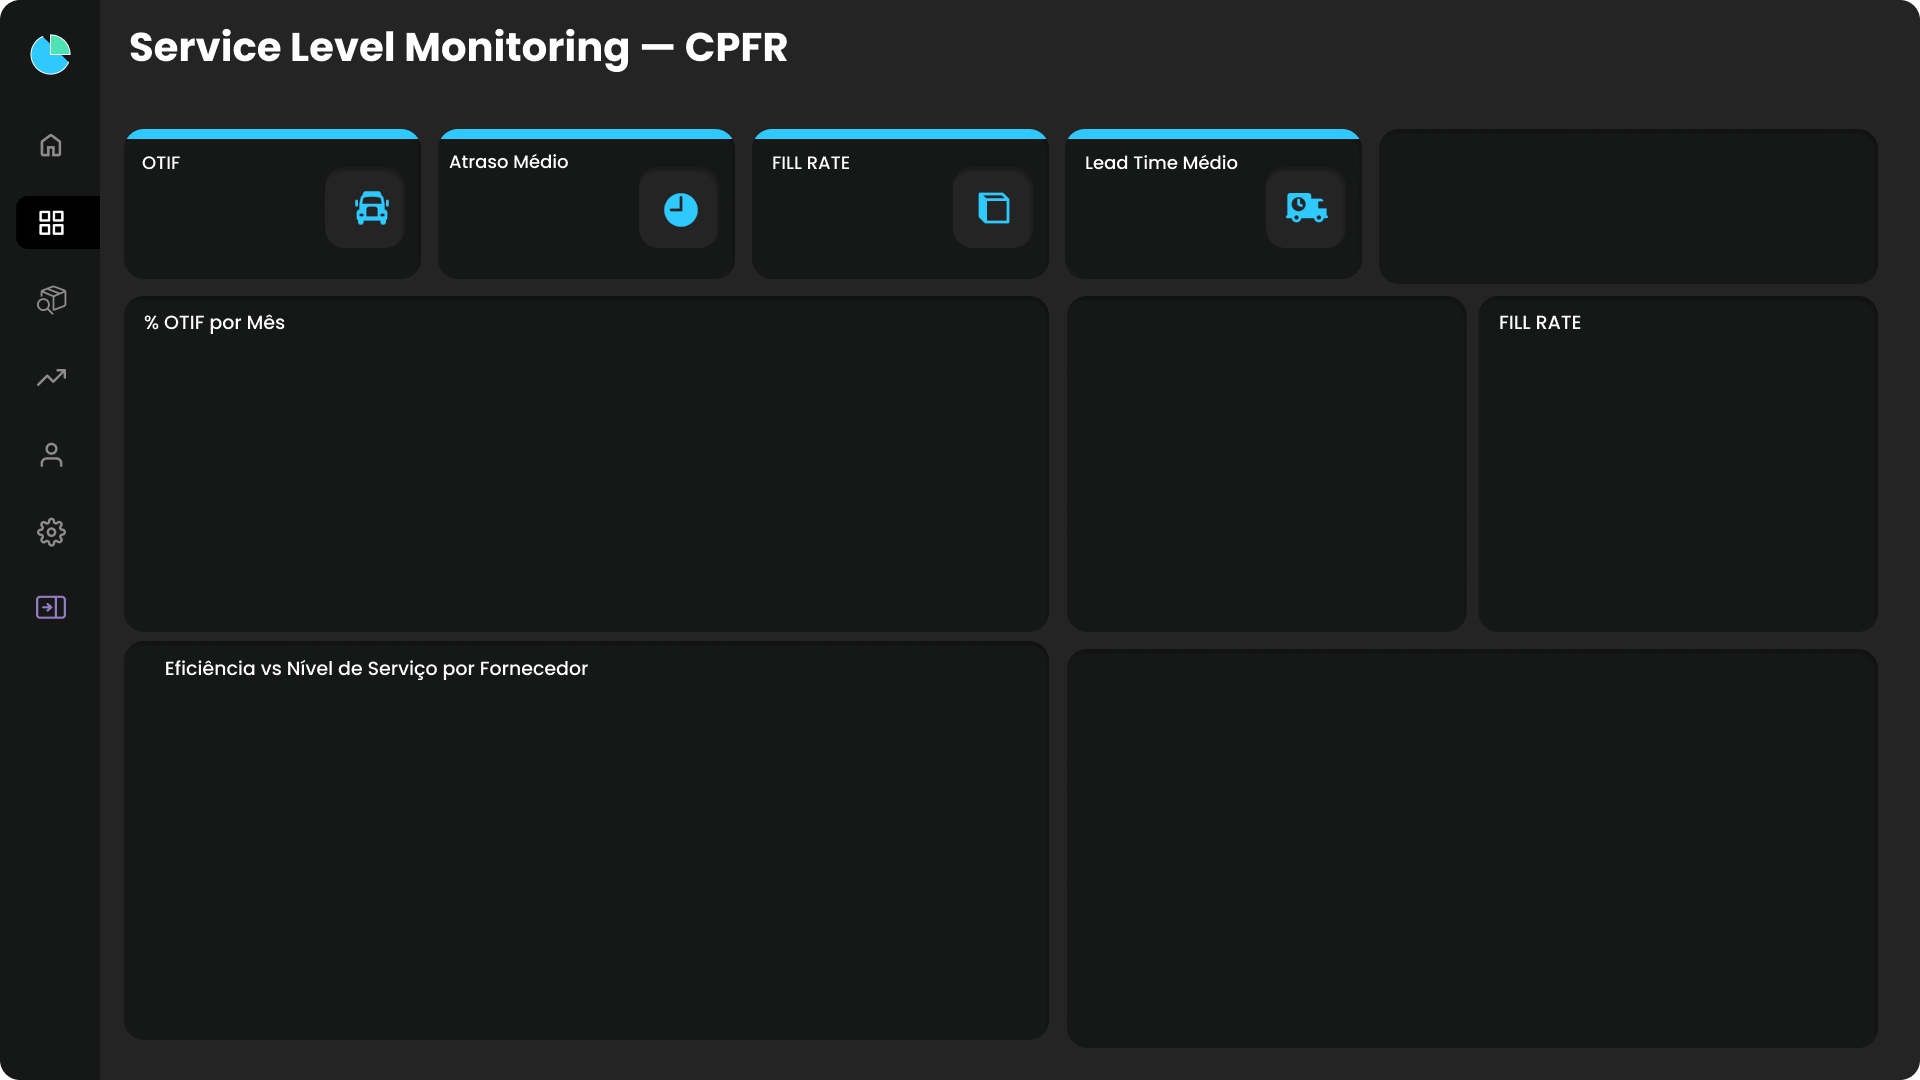

The page's visual inventory and layout, read from the dashboard file:
{"tool":"powerbi","page":{"name":"Nível de Serviço","canvas":[1280,720],"ordinal":1},"visuals":[{"type":"card","fields":{"Values":["_Medidas.OTIF %"]},"box":[92.5,104,138.7,82.2],"z":0},{"type":"card","fields":{"Values":["_Medidas.Atraso Médio"]},"box":[297.4,104,137.4,82.2],"z":1000},{"type":"card","fields":{"Values":["_Medidas.Fill Rate %"]},"box":[506,104,137.4,82.2],"z":2000},{"type":"card","fields":{"Values":["_Medidas.Lead Time Médio"]},"box":[710.9,104,137.4,82.2],"z":3000},{"type":"lineChart","fields":{"Category":["Calendar.Mes"],"Y":["_Medidas.OTIF %"]},"box":[94.5,224.5,589,198.8],"z":4000},{"type":"scatterChart","title":"Eficiência vs Nível de Serviço por Fornecedor","fields":{"X":["_Medidas.Lead Time Médio"],"Y":["_Medidas.OTIF %"],"Series":["Pedidos.Fornecedor"],"Size":["Sum(Pedidos.Quantidade)"]},"box":[94.5,456.4,589,233.1],"z":5000},{"type":"card","fields":{"Values":["_Medidas.Insight"]},"box":[721.5,195.1,222.1,212.3],"z":6000},{"type":"slicer","fields":{"Values":["Calendar.Ano"]},"box":[931.3,89.6,149.7,81],"z":7000},{"type":"slicer","fields":{"Values":["Calendar.Mes"]},"box":[1096.9,87.1,137.4,83.4],"z":8000},{"type":"gauge","fields":{"Y":["_Medidas.Fill Rate %"],"TargetValue":["_Medidas.Meta FR"]},"box":[991.4,207.4,252.8,200],"z":9000},{"type":"tableEx","fields":{"Values":["Pedidos.Fornecedor","_Medidas.OTIF %","_Medidas.Atraso Médio","_Medidas.Fill Rate %","_Medidas.Lead Time Médio"]},"box":[721.5,439.3,522.7,250.3],"z":10000}]}

Visuals, with their boxes on the page's 1280x720 design canvas (x1, y1, x2, y2). These are canvas units, not pixel positions in the 1920x1080 screenshot, which may show the page scaled, cropped or inside an application window:
card - _Medidas.OTIF %: (92,104,231,186)
card - _Medidas.Atraso Médio: (297,104,435,186)
card - _Medidas.Fill Rate %: (506,104,643,186)
card - _Medidas.Lead Time Médio: (711,104,848,186)
lineChart - Calendar.Mes x _Medidas.OTIF %: (94,224,684,423)
"Eficiência vs Nível de Serviço por Fornecedor" scatterChart: (94,456,684,690)
card - _Medidas.Insight: (722,195,944,407)
slicer - Calendar.Ano: (931,90,1081,171)
slicer - Calendar.Mes: (1097,87,1234,170)
gauge - _Medidas.Fill Rate % x _Medidas.Meta FR: (991,207,1244,407)
tableEx - Pedidos.Fornecedor x _Medidas.OTIF %: (722,439,1244,690)
